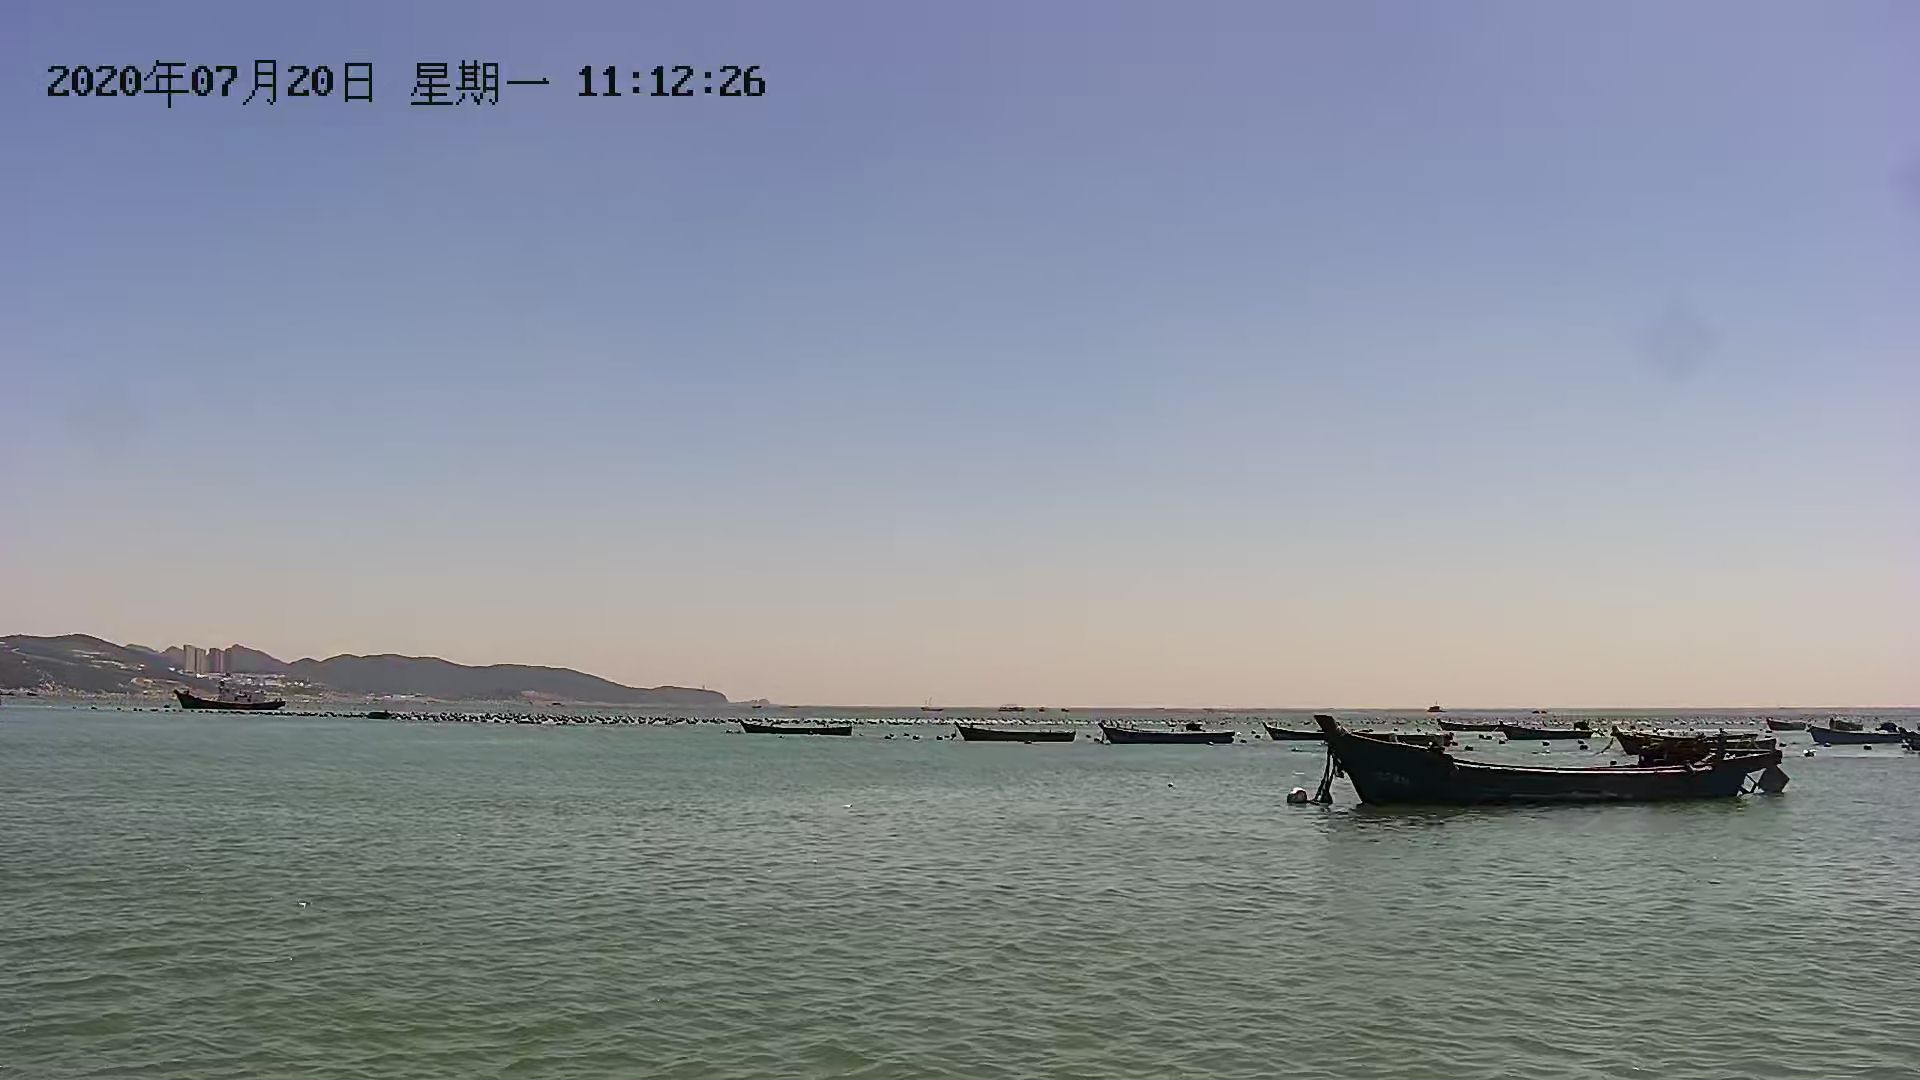boat: (1321, 716, 1780, 808), (1093, 720, 1241, 750), (1803, 720, 1920, 756), (959, 719, 1084, 746), (738, 715, 866, 738), (1495, 721, 1601, 742)
rock: (1, 628, 766, 720)
ship: (166, 678, 291, 709)
